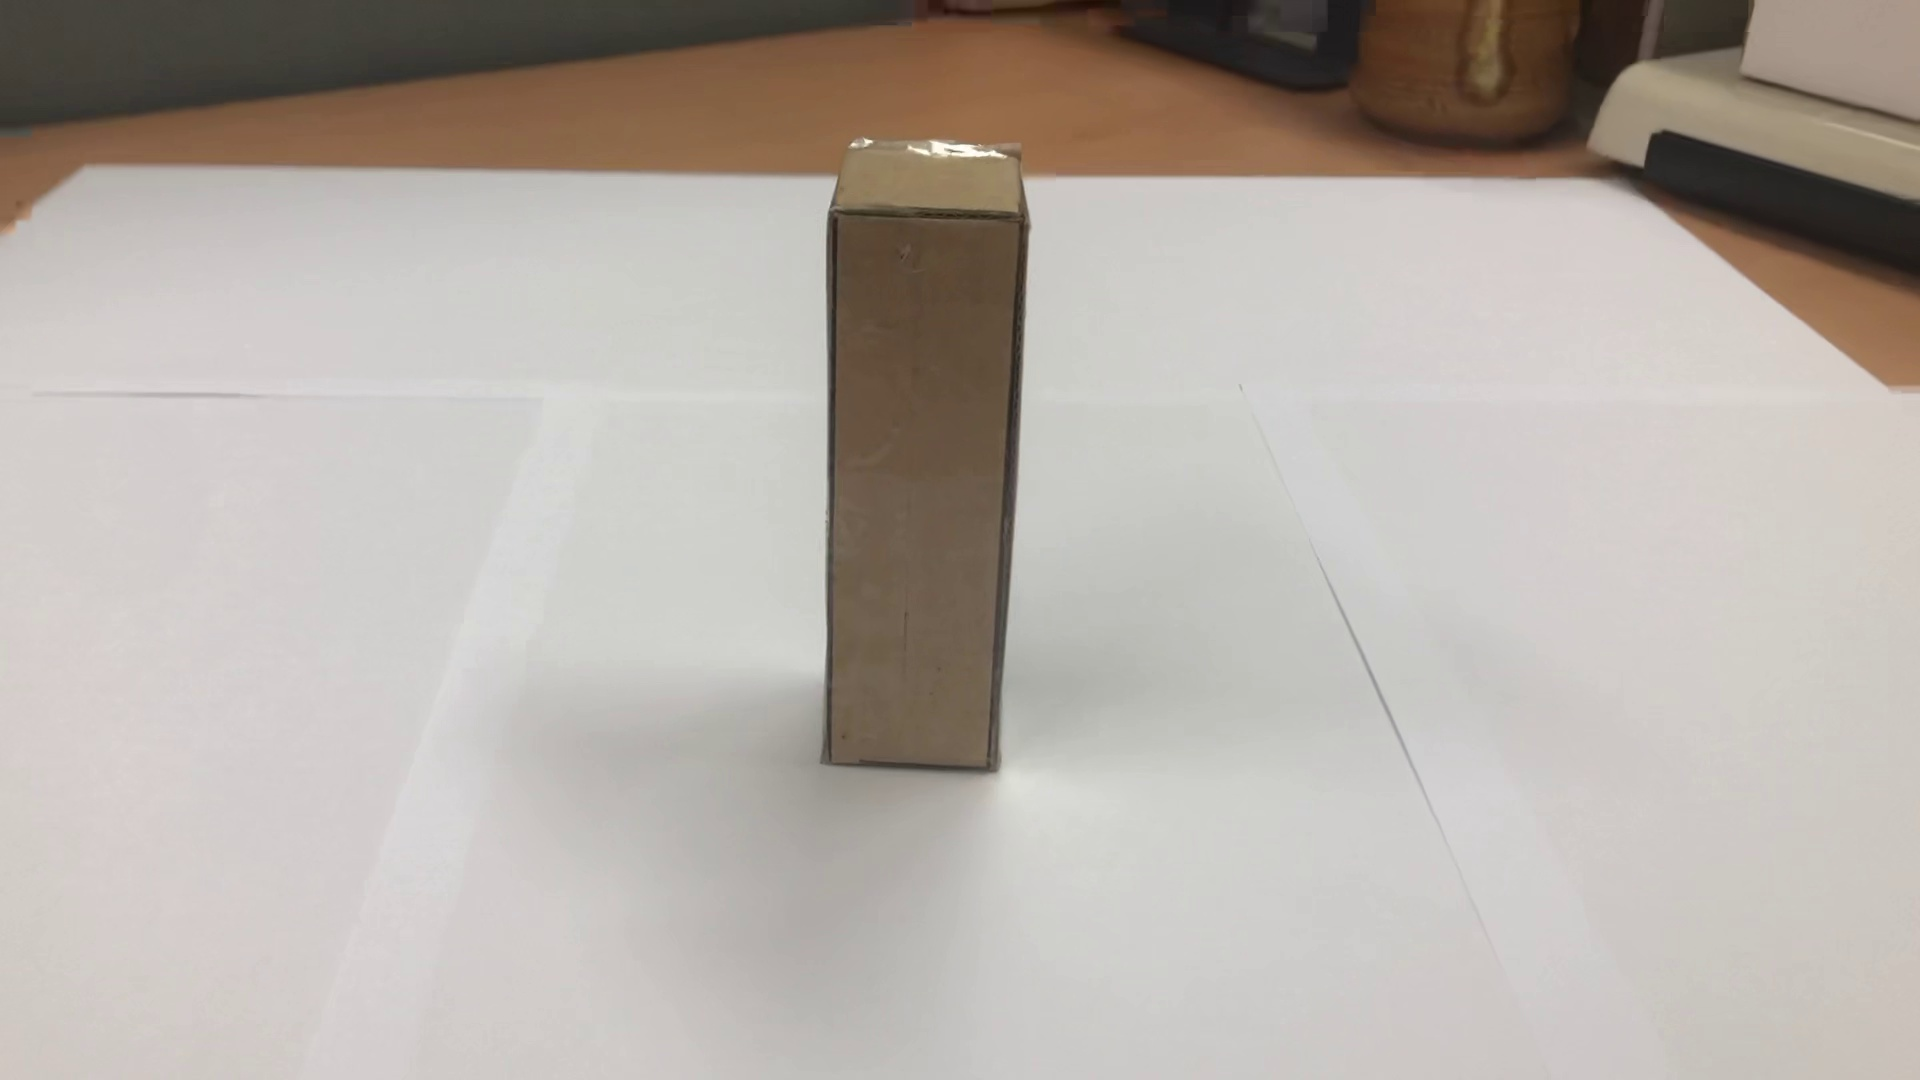box: (789, 109, 1047, 798)
